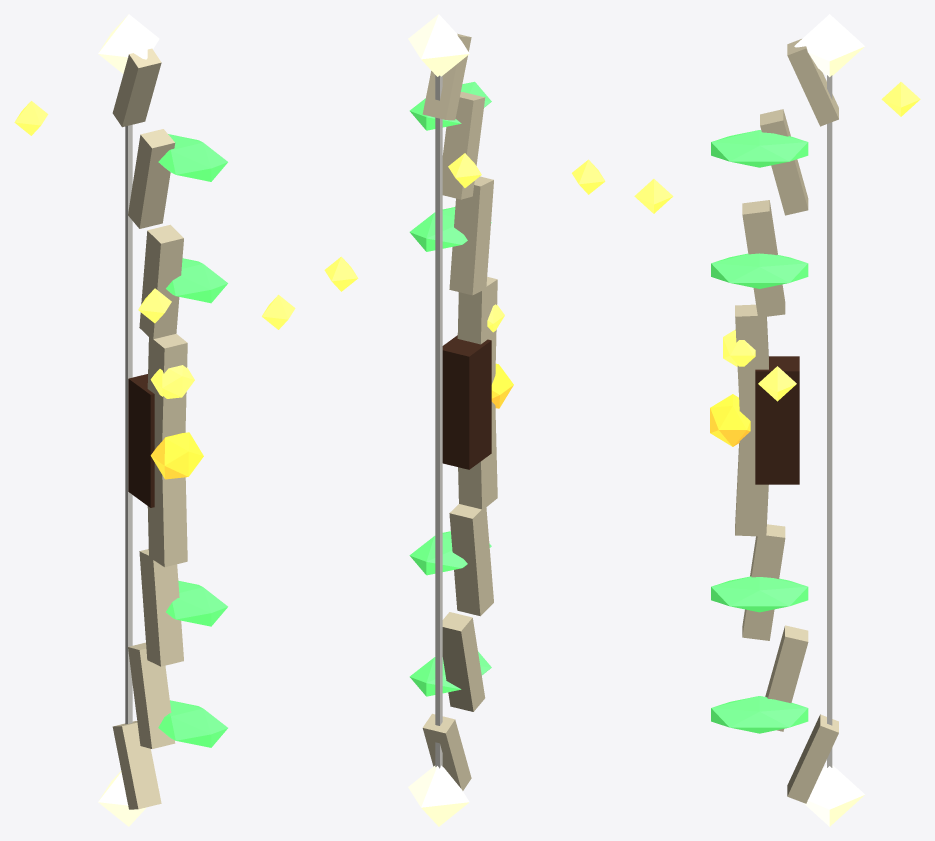
The model's file is legend_bow_oldroot.glb.
The picture shows the model from 3 angles, left to right: view 1: azimuth 30°, elevation 25°; view 2: azimuth 150°, elevation 25°; view 3: azimuth 270°, elevation 25°; orthographic projection.
Visible parts, largest first — view 1: item_starWood, item_legendLeaf, bowString_string, item_leather3, item_bowStar, item_legendSpark, item_legendGlow, item_gem3; view 2: item_starWood, item_leather3, bowString_string, item_legendLeaf, item_bowStar, item_legendSpark, item_legendGlow; view 3: item_starWood, item_legendLeaf, item_leather3, item_bowStar, bowString_string, item_legendSpark, item_legendGlow, item_gem3.
Boxes of the visible parts, bbox=[...] form: item_starWood: bbox=[112, 48, 187, 809]; item_legendLeaf: bbox=[158, 134, 227, 747]; bowString_string: bbox=[125, 124, 132, 724]; item_leather3: bbox=[128, 374, 154, 507]; item_bowStar: bbox=[98, 14, 159, 826]; item_legendSpark: bbox=[14, 101, 295, 329]; item_legendGlow: bbox=[150, 432, 203, 479]; item_gem3: bbox=[150, 365, 194, 398]; item_starWood: bbox=[422, 33, 497, 790]; item_leather3: bbox=[442, 335, 491, 469]; bowString_string: bbox=[435, 75, 442, 768]; item_legendLeaf: bbox=[409, 81, 491, 696]; item_bowStar: bbox=[408, 14, 469, 826]; item_legendSpark: bbox=[324, 153, 605, 291]; item_legendGlow: bbox=[491, 363, 513, 408]; item_starWood: bbox=[735, 39, 838, 803]; item_legendLeaf: bbox=[711, 130, 808, 733]; item_leather3: bbox=[755, 356, 799, 484]; item_bowStar: bbox=[794, 14, 865, 826]; bowString_string: bbox=[827, 75, 832, 767]; item_legendSpark: bbox=[634, 82, 920, 401]; item_legendGlow: bbox=[710, 394, 750, 446]; item_gem3: bbox=[723, 329, 755, 366].
Bounding box in the file's own units: 0.284 × 1.01 × 0.3211.
